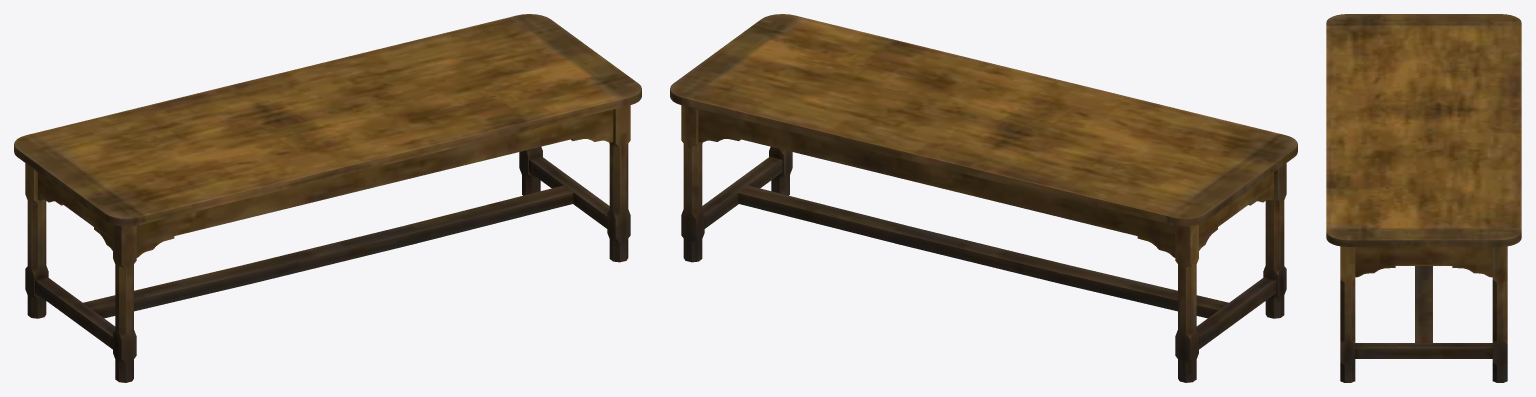
The model's file is tablePlank_lo.glb.
The picture shows the model from 3 angles, left to right: view 1: azimuth 30°, elevation 25°; view 2: azimuth 150°, elevation 25°; view 3: azimuth 270°, elevation 25°; orthographic projection. The views are drawn at different scales.
Visible parts, largest first — view 1: WoodenTable_01; view 2: WoodenTable_01; view 3: WoodenTable_01.
Part boxes in pixels (x1=…): WoodenTable_01: x1=14, y1=14, x2=641, y2=382; WoodenTable_01: x1=670, y1=14, x2=1297, y2=382; WoodenTable_01: x1=1326, y1=14, x2=1521, y2=382.
Bounding box in the file's own units: 1.8 × 0.5488 × 0.6571.
1 material, 1 textured.
